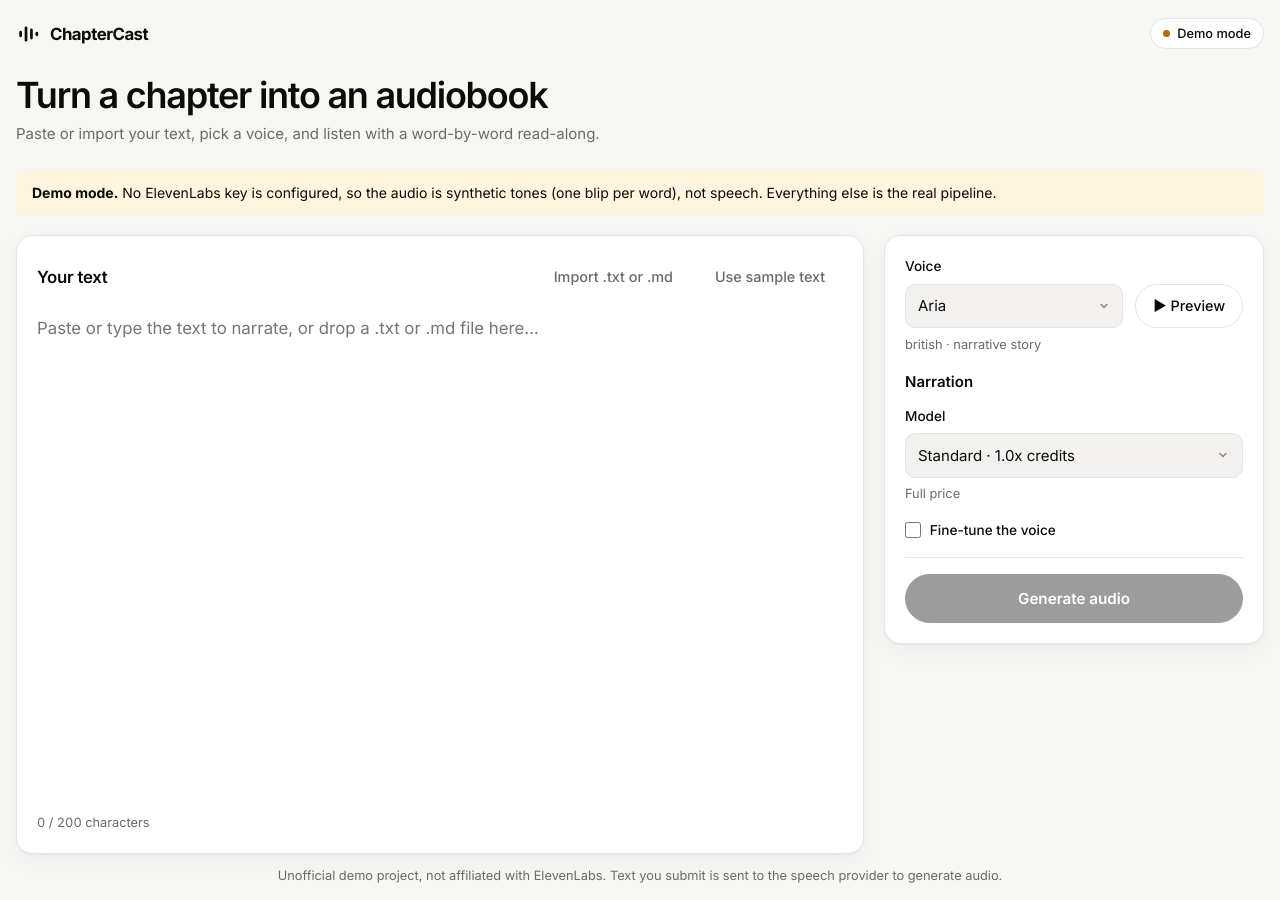
it: App › shows server failures and lets the user try again with the text intact
Type "Keep this text." into the text box named "Chapter text" at (440, 556), box [37,314,843,797]
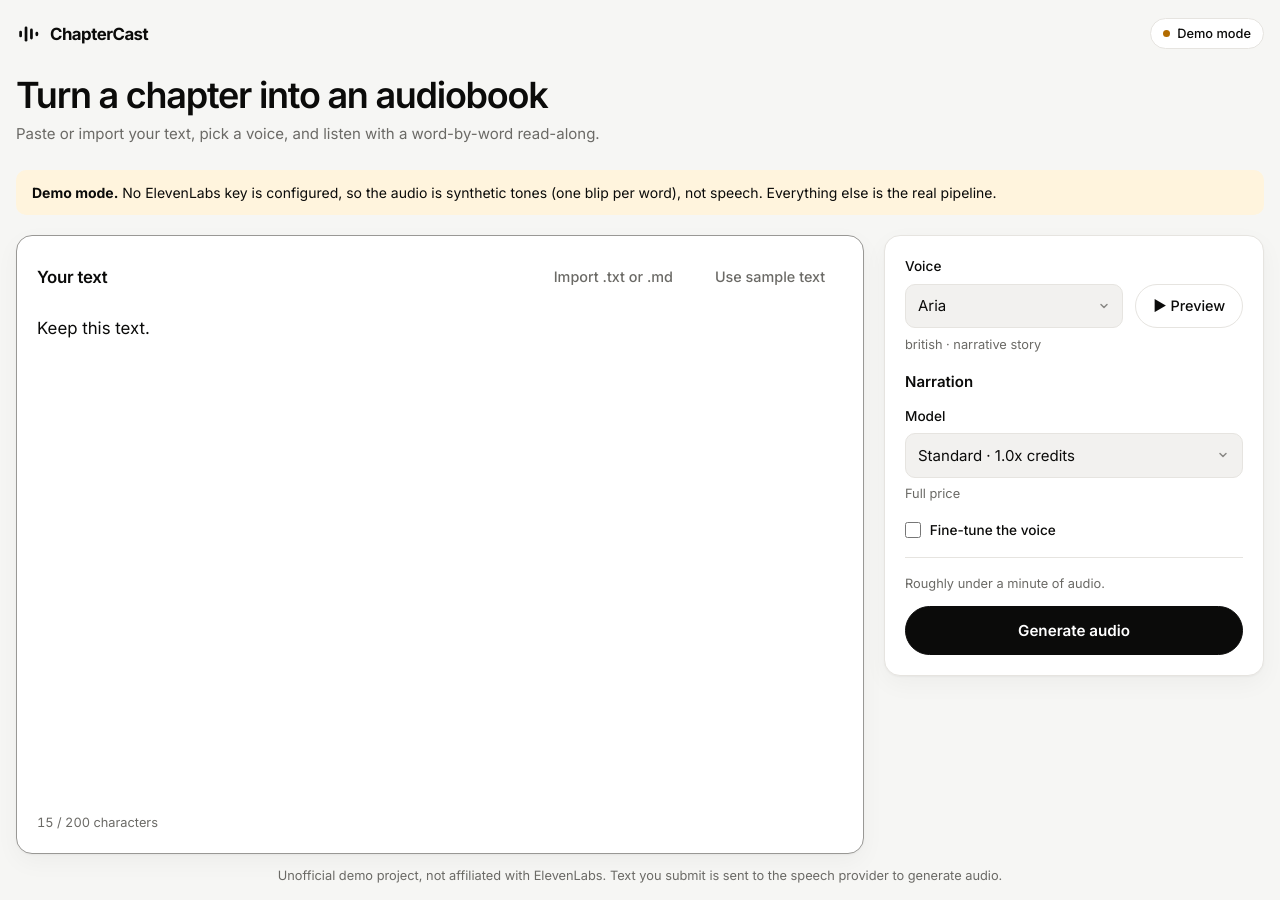
Click the button "Generate audio" at (1074, 630), box [905,606,1243,655]
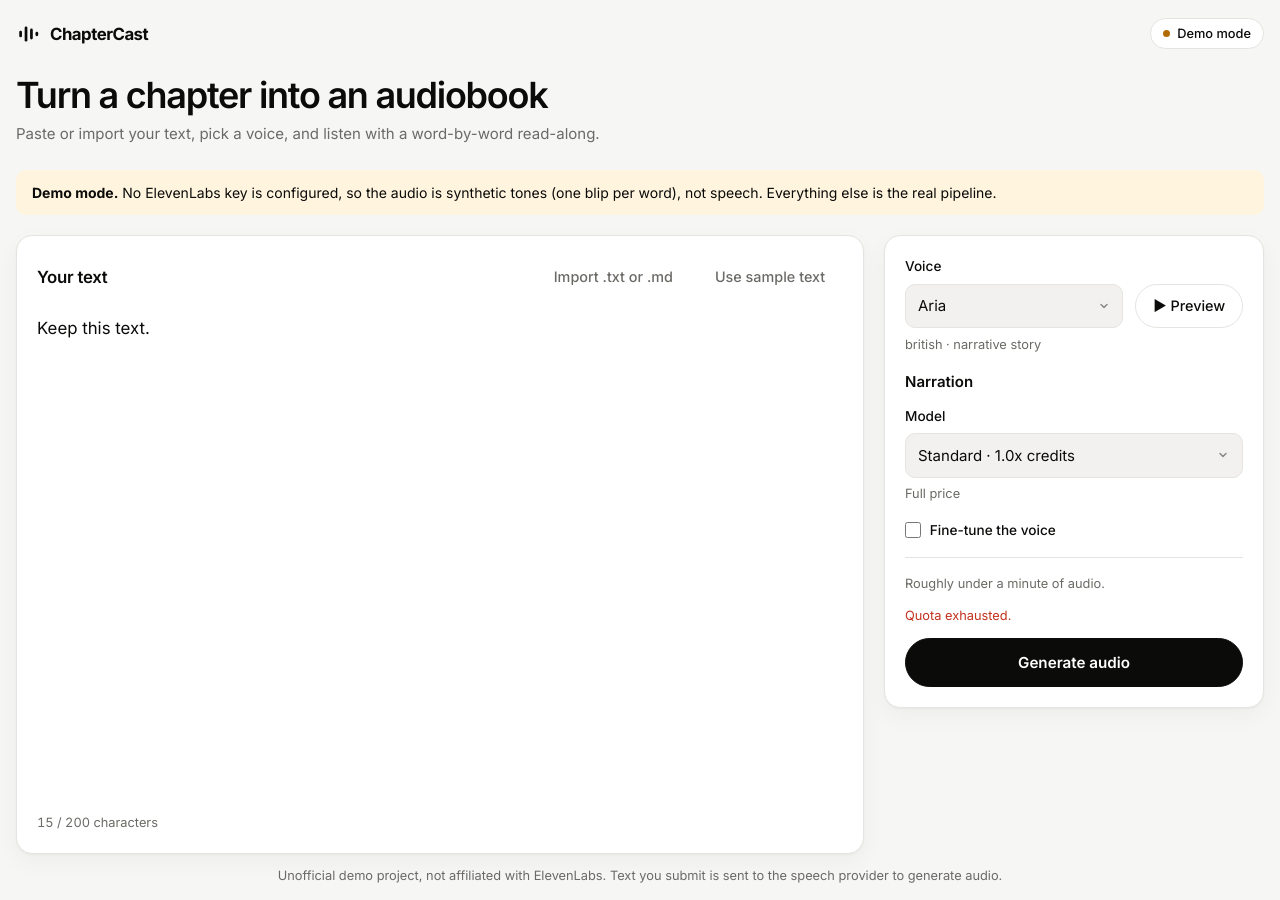
Expected: the text box named "Chapter text" holds "Keep this text.", [37,314,843,797]
Expected: the message reads "Quota exhausted.", [905,608,1011,623]
